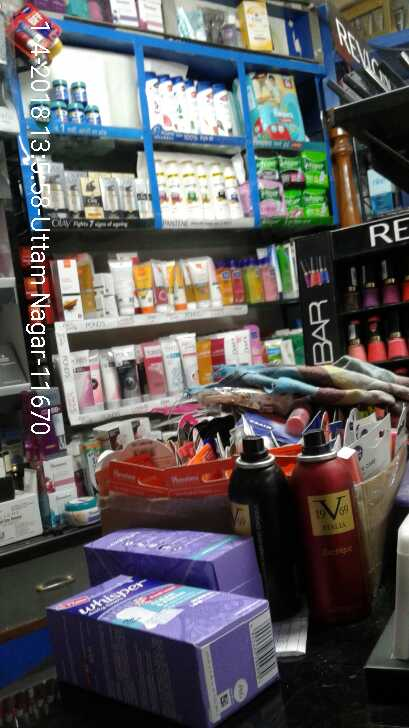vicks: (40, 74, 106, 125)
